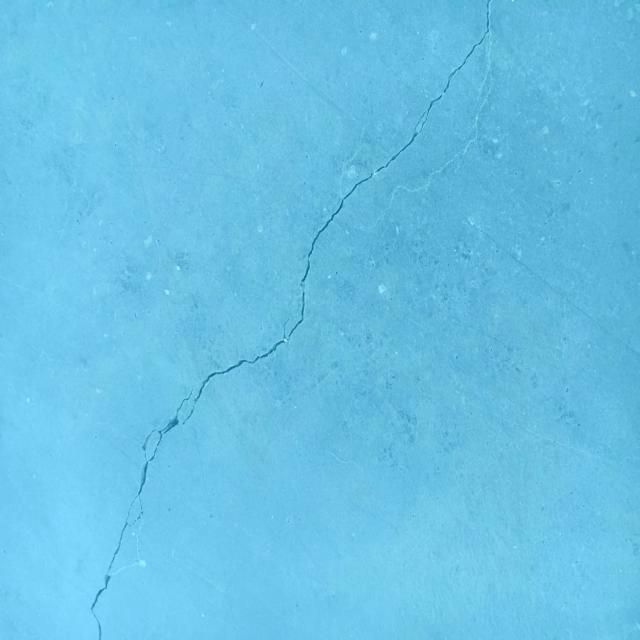crack: (182, 0, 492, 425), (90, 390, 192, 640)
